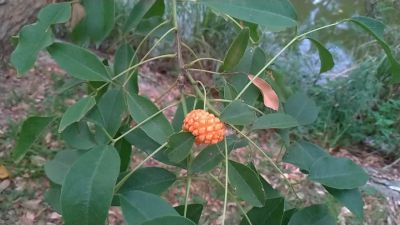eggs: (182, 104, 224, 145)
